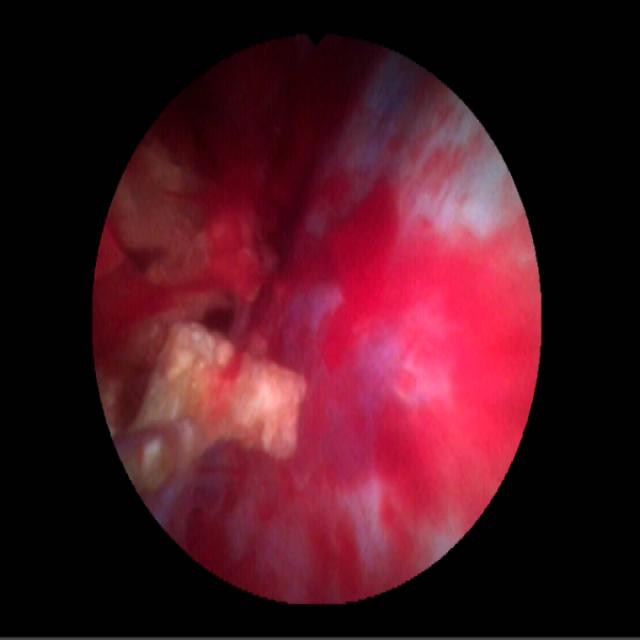stone: (102, 295, 305, 493), (115, 145, 254, 287)
tissue: (159, 41, 533, 599)
